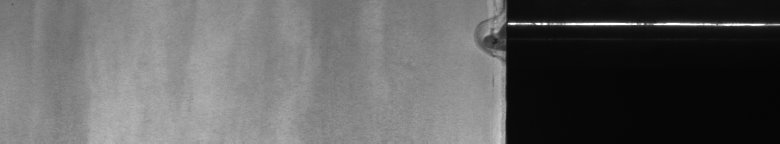hb: (469, 4, 496, 87)
